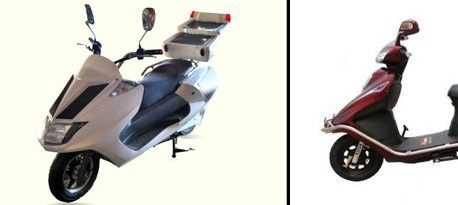non-vehicle: (40, 9, 237, 201), (321, 19, 456, 180)
